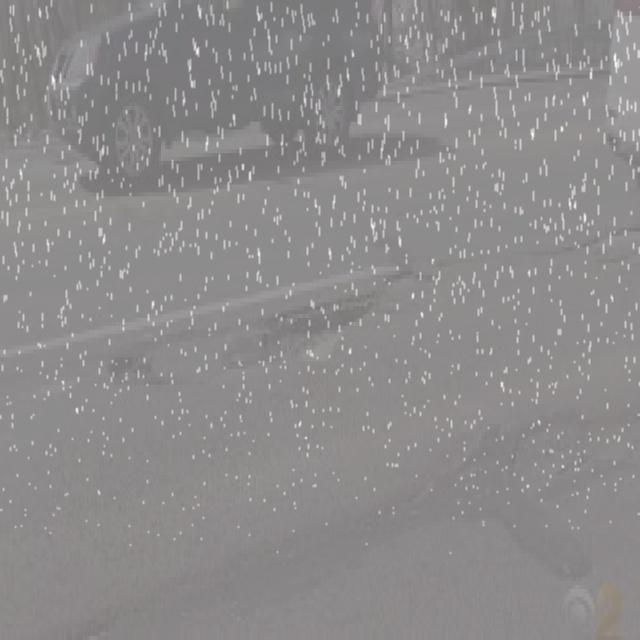Pothole: (205, 265, 406, 374), (436, 420, 640, 491), (103, 342, 172, 386)
